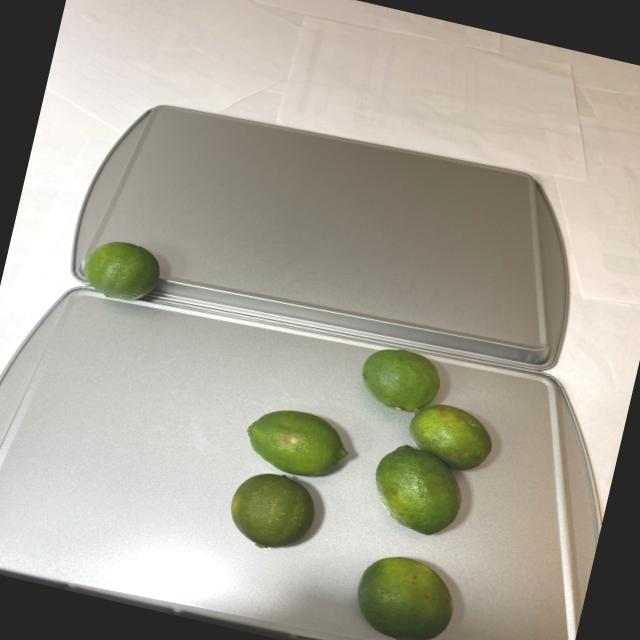lemon: (202, 319, 524, 640), (77, 236, 165, 306)
